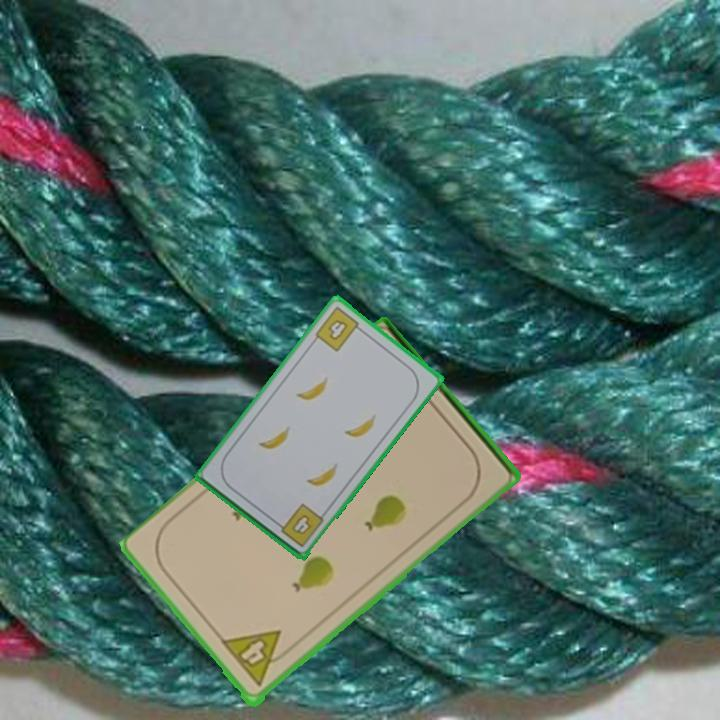4b: (311, 303, 367, 355), (272, 500, 327, 550)
4p: (219, 626, 296, 691)
